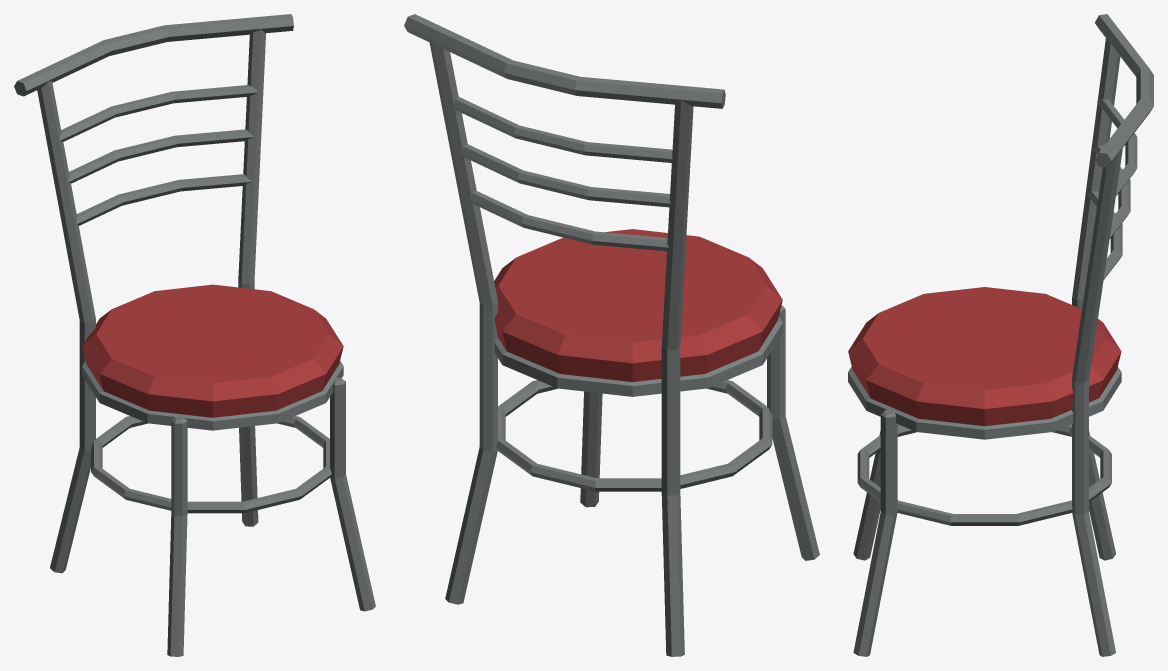
Rendered from SM_Props_Interior_House_Generic_Chair_02.fbx.
3 views of the same model, side by side, from view 1: azimuth 30°, elevation 25°; view 2: azimuth 150°, elevation 25°; view 3: azimuth 270°, elevation 25° (orthographic). The views are drawn at different scales.
Parts seen in each view (by area): view 1: SM_Props_Interior_House_Generic_Chair_02; view 2: SM_Props_Interior_House_Generic_Chair_02; view 3: SM_Props_Interior_House_Generic_Chair_02.
Part boxes in pixels (x1,y1,x2,y2): SM_Props_Interior_House_Generic_Chair_02: (14,14,375,656); SM_Props_Interior_House_Generic_Chair_02: (404,14,819,656); SM_Props_Interior_House_Generic_Chair_02: (848,14,1153,656).
Size of the model in its own units: 48.81 by 84.34 by 44.74.
